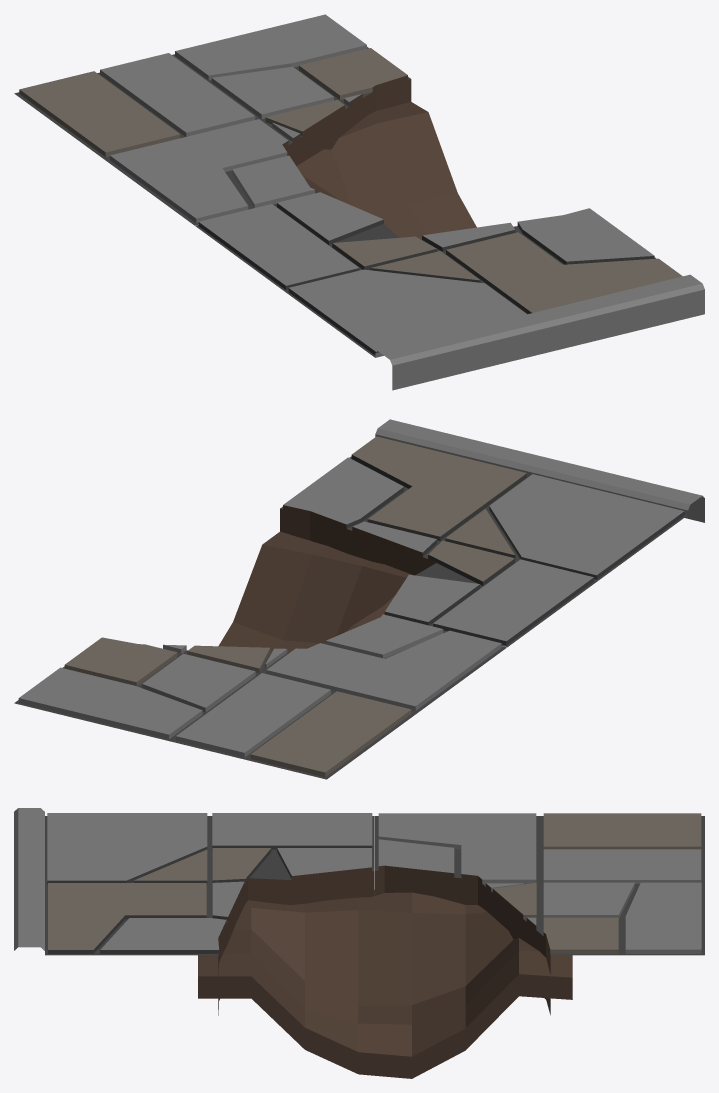
File: Walkway Modern Hole B - 3.fbx
3 renders of one model, top to bottom at view 1: azimuth 30°, elevation 25°; view 2: azimuth 150°, elevation 25°; view 3: azimuth 270°, elevation 25°, orthographic. The views are drawn at different scales.
Visible parts, largest first — view 1: Walkway Modern Hole B - 3.001; view 2: Walkway Modern Hole B - 3.001; view 3: Walkway Modern Hole B - 3.001.
Part boxes in pixels (x1,y1,x2,y2): Walkway Modern Hole B - 3.001: [14, 14, 704, 390]; Walkway Modern Hole B - 3.001: [14, 419, 704, 779]; Walkway Modern Hole B - 3.001: [14, 808, 704, 1078].
Size of the model in its own units: 305 by 639 by 134.
